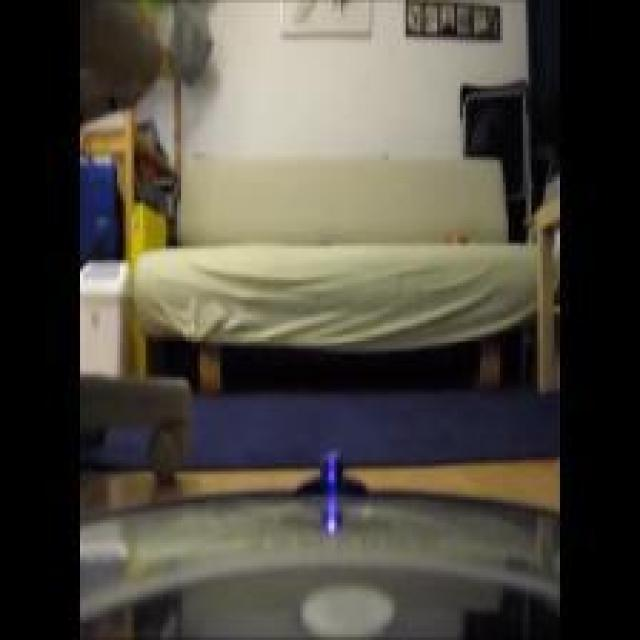other: (99, 185, 188, 362)
